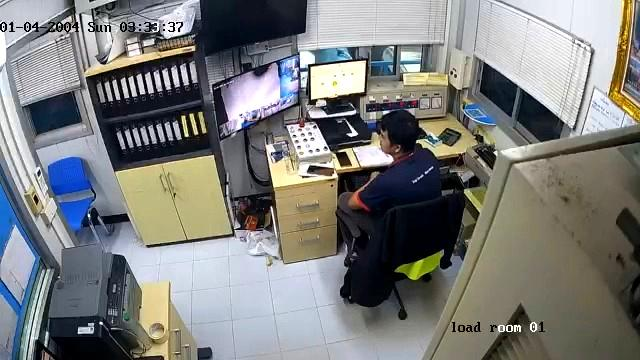Head: (379, 110, 419, 157)
People: (338, 110, 441, 239)
Phone: (306, 164, 337, 178), (336, 151, 352, 167)
